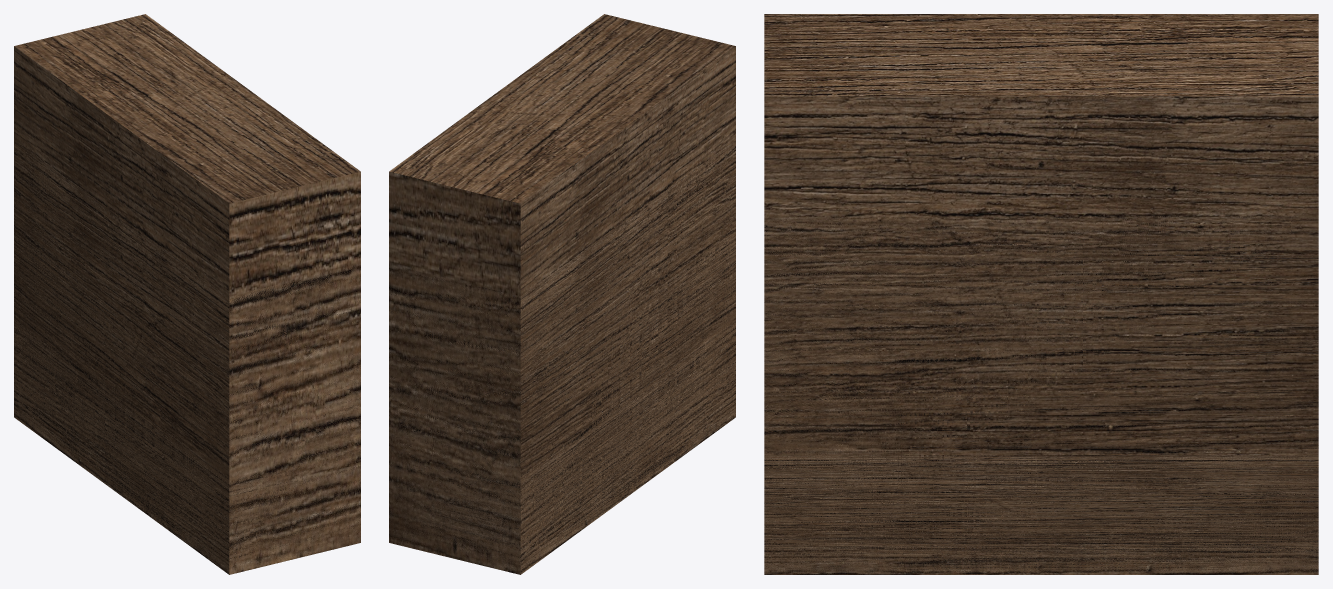
Rendered from barricade.fbx.
3 views of the same model, side by side, from view 1: azimuth 30°, elevation 25°; view 2: azimuth 150°, elevation 25°; view 3: azimuth 270°, elevation 25° (orthographic). The views are drawn at different scales.
Visible parts, largest first — view 1: barricade_100hp, barricade_75hp, barricade_25hp, barricade_50hp; view 2: barricade_100hp, barricade_75hp, barricade_50hp, barricade_25hp; view 3: barricade_100hp, barricade_75hp, barricade_25hp, barricade_50hp.
Boxes of the visible parts, x1,y1,x2,y2 form: barricade_100hp: [14, 14, 360, 574]; barricade_75hp: [14, 139, 360, 573]; barricade_25hp: [14, 326, 360, 573]; barricade_50hp: [14, 232, 360, 574]; barricade_100hp: [389, 14, 735, 574]; barricade_75hp: [389, 140, 735, 574]; barricade_50hp: [389, 232, 735, 574]; barricade_25hp: [390, 327, 735, 572]; barricade_100hp: [764, 14, 1318, 574]; barricade_75hp: [764, 216, 1318, 574]; barricade_25hp: [764, 455, 1318, 574]; barricade_50hp: [764, 336, 1318, 574].
Bounding box in the file's own units: 100 × 270 × 283.
Materials: 1 (1 with a texture image).
